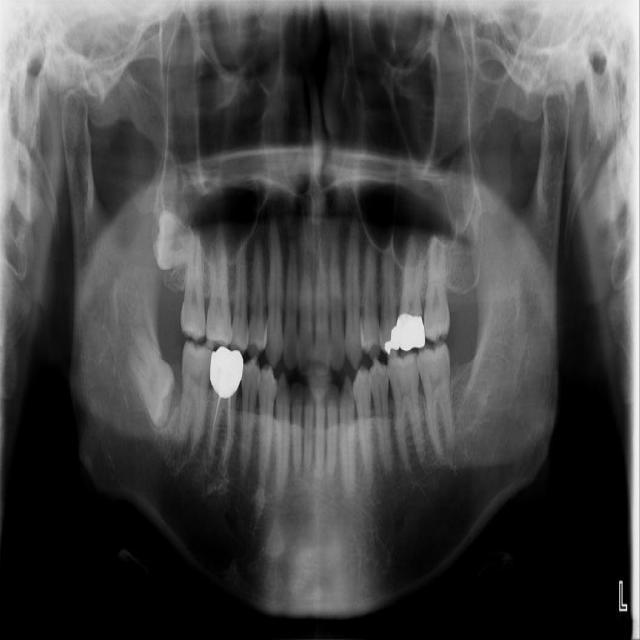3M ESPE Implant: (141, 202, 205, 272)
52: (207, 344, 245, 400), (392, 309, 428, 353), (377, 312, 402, 360)
73: (204, 381, 239, 469), (540, 549, 553, 563)
BioHorizons Implant: (423, 233, 452, 343)
Blue Sky Bio Implant: (415, 337, 459, 456)
Caries: (176, 230, 207, 343)
Implant: (174, 338, 215, 452)
Keystone Dental Implant: (115, 323, 192, 429)
